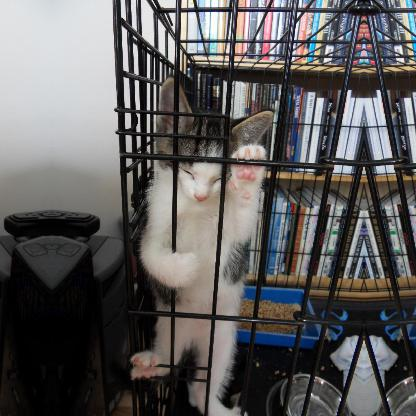Cat: (129, 75, 276, 415)
